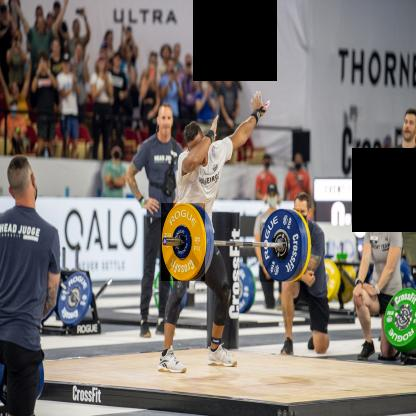barbell: (162, 204, 206, 282), (261, 209, 303, 283)
